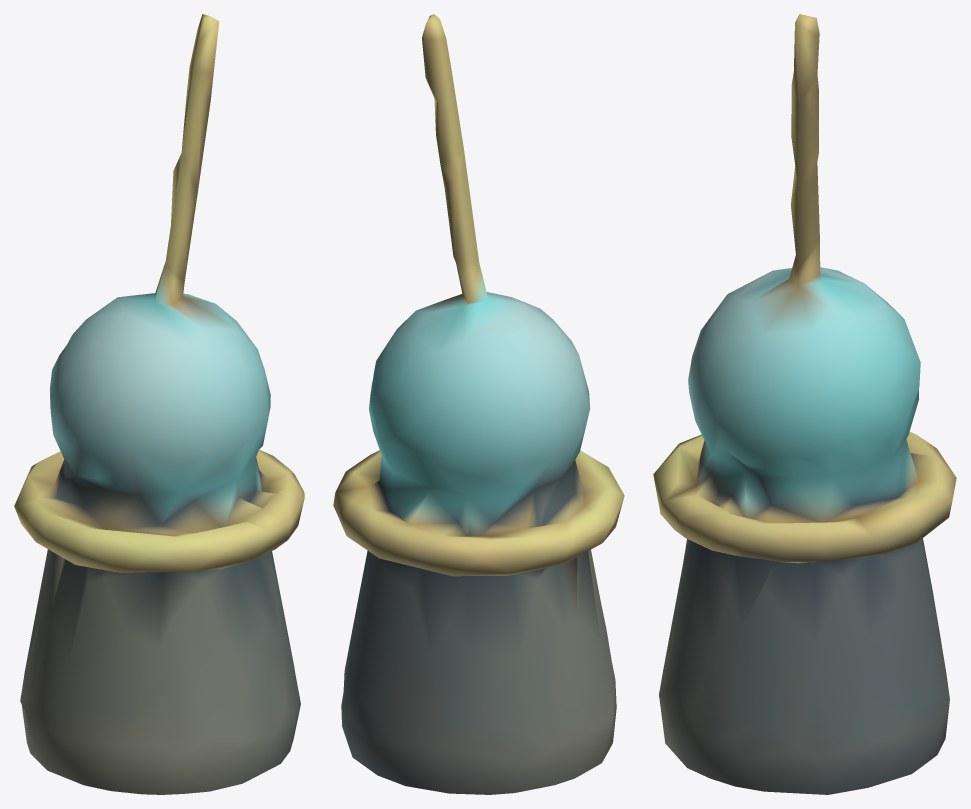
File: env_p_decoy.glb
The picture shows the model from 3 angles, left to right: view 1: azimuth 30°, elevation 25°; view 2: azimuth 150°, elevation 25°; view 3: azimuth 270°, elevation 25°; orthographic projection. The views are drawn at different scales.
Parts seen in each view (by area): view 1: geometry_0; view 2: geometry_0; view 3: geometry_0.
Boxes of the visible parts, x1,y1,x2,y2 form: geometry_0: (14, 14, 304, 794); geometry_0: (333, 14, 624, 794); geometry_0: (653, 14, 956, 794).
Bounding box in the file's own units: 0.2085 × 0.5678 × 0.209.
